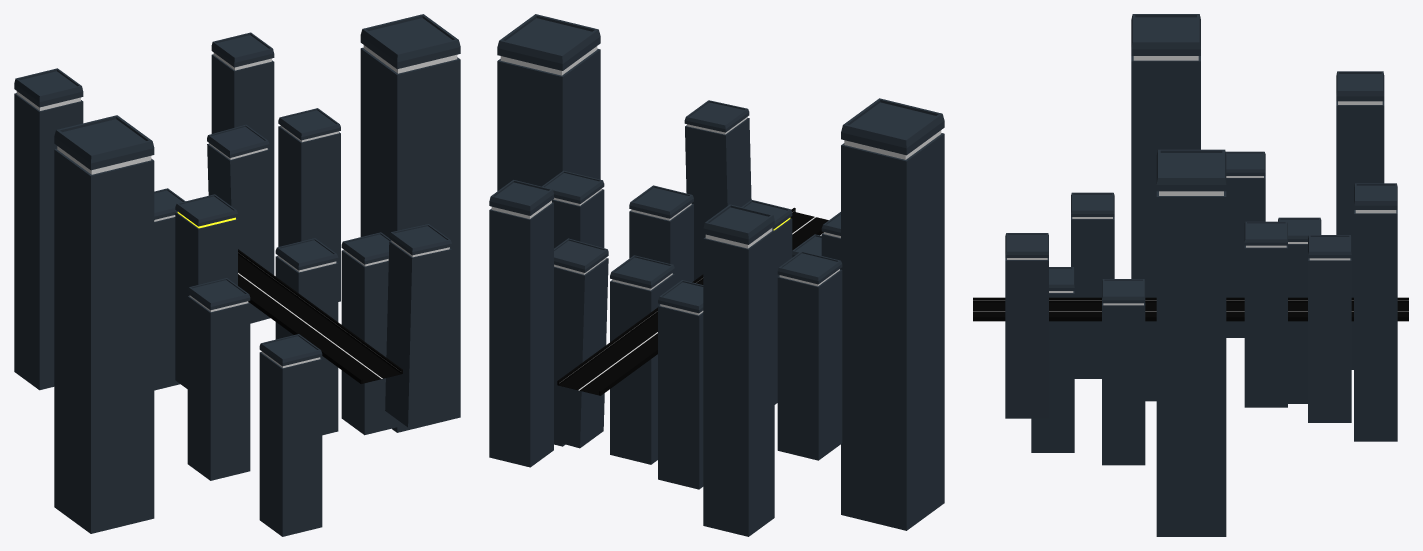
The model's file is LevelBlock_M1.fbx.
The picture shows the model from 3 angles, left to right: view 1: azimuth 30°, elevation 25°; view 2: azimuth 150°, elevation 25°; view 3: azimuth 270°, elevation 25°; orthographic projection. The views are drawn at different scales.
Parts seen in each view (by area): view 1: Block.013, Block.012, Block.010, Block.004, Block.005, Block.008, Block.002, Block.001, Block.007, Block, Block.011, Road (+4 smaller); view 2: Block.013, Block.010, Block.011, Block.012, Block.009, Block.003, Block.007, Block.006, Block.008, Block.001, Road, Block.002 (+3 smaller); view 3: Block.012, Block.013, Block.011, Block.007, Block.001, Block.002, Block.008, Block.010, Block.004, Block.005, Block.009, Block.003 (+3 smaller).
Boxes of the visible parts, bbox=[...] form: Block.013: bbox=[54, 115, 154, 533]; Block.012: bbox=[360, 14, 460, 432]; Block.010: bbox=[14, 68, 83, 390]; Block.004: bbox=[187, 278, 250, 480]; Block.005: bbox=[259, 334, 322, 536]; Block.008: bbox=[385, 224, 451, 427]; Block.002: bbox=[278, 108, 340, 301]; Block.001: bbox=[341, 232, 404, 435]; Block.007: bbox=[207, 124, 273, 323]; Block: bbox=[175, 194, 237, 388]; Block.011: bbox=[211, 32, 274, 274]; Road: bbox=[238, 254, 401, 383]; Block.013: bbox=[841, 98, 944, 530]; Block.010: bbox=[703, 204, 774, 536]; Block.011: bbox=[489, 180, 553, 467]; Block.012: bbox=[497, 14, 600, 446]; Block.009: bbox=[777, 251, 842, 460]; Block.003: bbox=[658, 280, 703, 489]; Block.007: bbox=[554, 238, 608, 448]; Block.006: bbox=[610, 255, 674, 464]; Block.008: bbox=[684, 100, 751, 280]; Block.001: bbox=[629, 185, 693, 284]; Road: bbox=[558, 212, 828, 395]; Block.002: bbox=[542, 170, 604, 248]; Block.012: bbox=[1156, 149, 1226, 536]; Block.013: bbox=[1131, 14, 1200, 401]; Block.011: bbox=[1354, 183, 1397, 441]; Block.007: bbox=[1308, 235, 1351, 422]; Block.001: bbox=[1102, 279, 1145, 465]; Block.002: bbox=[1244, 221, 1287, 407]; Block.008: bbox=[1005, 233, 1048, 418]; Block.010: bbox=[1336, 71, 1384, 369]; Block.004: bbox=[1071, 192, 1114, 378]; Block.005: bbox=[1031, 267, 1074, 452]; Block.009: bbox=[1225, 151, 1265, 337]; Block.003: bbox=[1278, 217, 1321, 403].
Size of the model in its own units: 4824 by 4701 by 5000.
